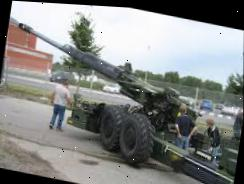sau: (0, 12, 244, 184)
